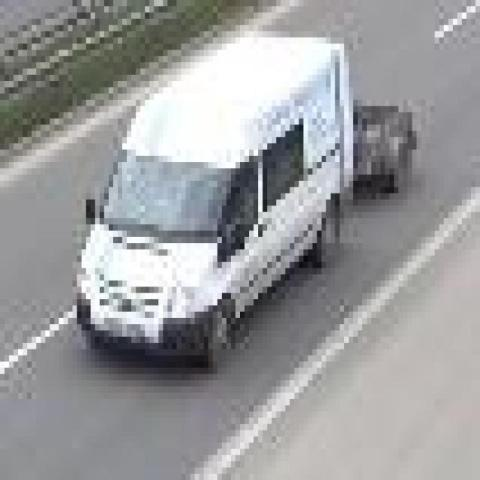van: (82, 31, 354, 374)
